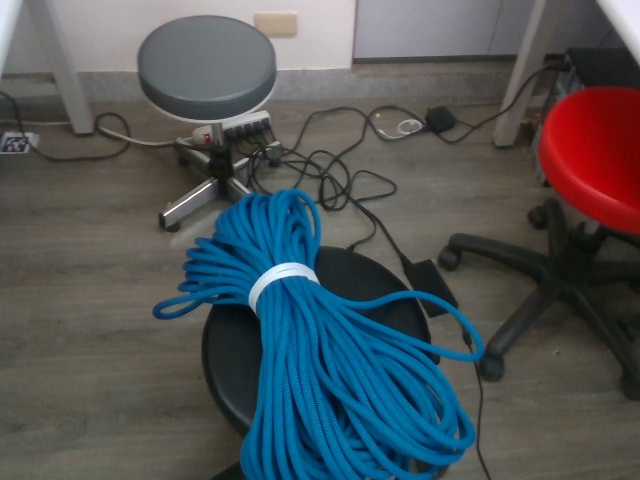rope: (148, 189, 491, 480)
